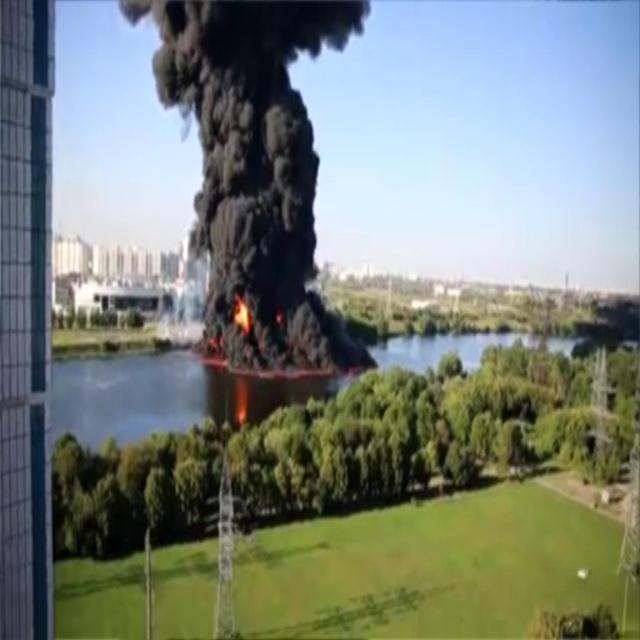Smoke: (116, 0, 383, 382)
